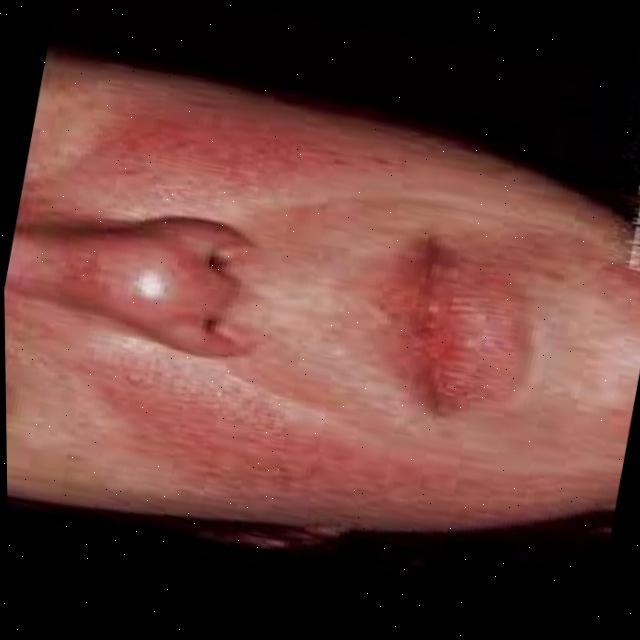Rosacea: (68, 58, 363, 233), (66, 367, 385, 525)
